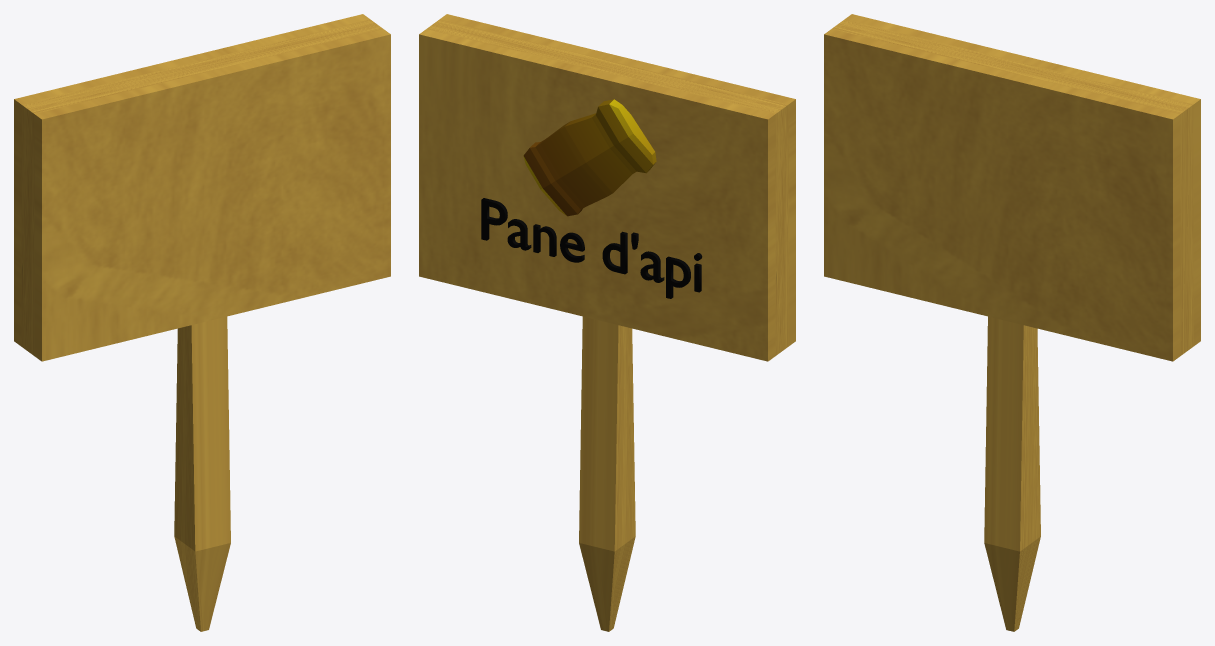
File: Cartello_pane_api.fbx
The picture shows the model from 3 angles, left to right: view 1: azimuth 30°, elevation 25°; view 2: azimuth 150°, elevation 25°; view 3: azimuth 330°, elevation 25°; orthographic projection.
Parts seen in each view (by area): view 1: Cartello_1; view 2: Cartello_1; view 3: Cartello_1.
Boxes of the visible parts, left/top/right/bottom form: Cartello_1: left=14, top=14, right=390, bottom=631; Cartello_1: left=419, top=14, right=795, bottom=631; Cartello_1: left=824, top=14, right=1200, bottom=631.
Size of the model in its own units: 667 by 1027 by 121.
3 materials, 2 textured.
